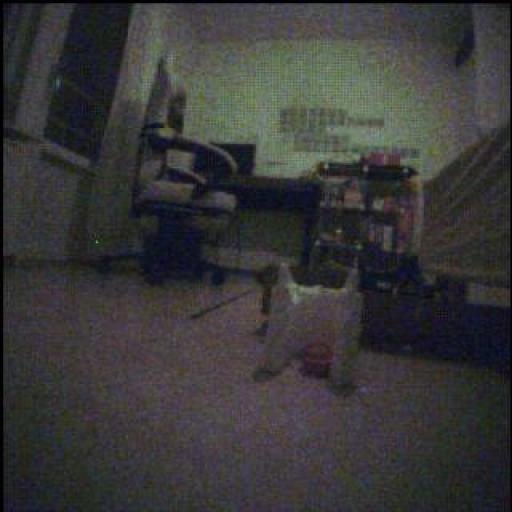basket: (303, 344, 334, 379)
